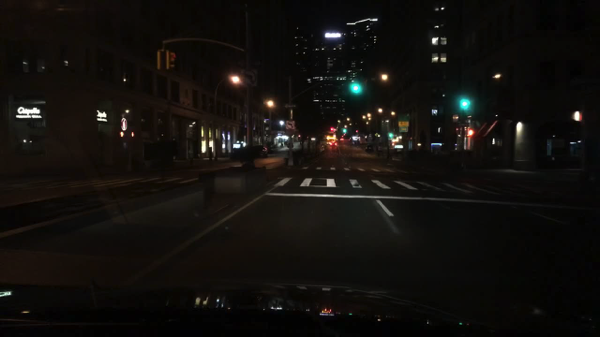car: (231, 146, 254, 162), (253, 145, 268, 160), (364, 145, 374, 153), (343, 136, 351, 143), (348, 139, 356, 146), (330, 142, 337, 149), (286, 142, 294, 148), (325, 139, 331, 146), (310, 136, 317, 142), (331, 140, 337, 146), (339, 136, 344, 142)
person: (376, 143, 384, 159), (384, 146, 391, 160), (207, 148, 213, 162), (279, 140, 284, 149), (355, 138, 360, 146), (298, 140, 303, 147), (283, 140, 287, 147)
traffic light: (165, 49, 176, 73), (156, 49, 165, 71), (351, 84, 359, 91), (461, 100, 468, 108), (467, 129, 474, 136), (387, 132, 393, 139), (341, 129, 347, 133)
traffic sign: (238, 70, 257, 88), (235, 59, 264, 69), (397, 115, 410, 127), (285, 119, 295, 132), (455, 122, 470, 129), (283, 103, 297, 110), (399, 126, 408, 133), (373, 132, 378, 139)
